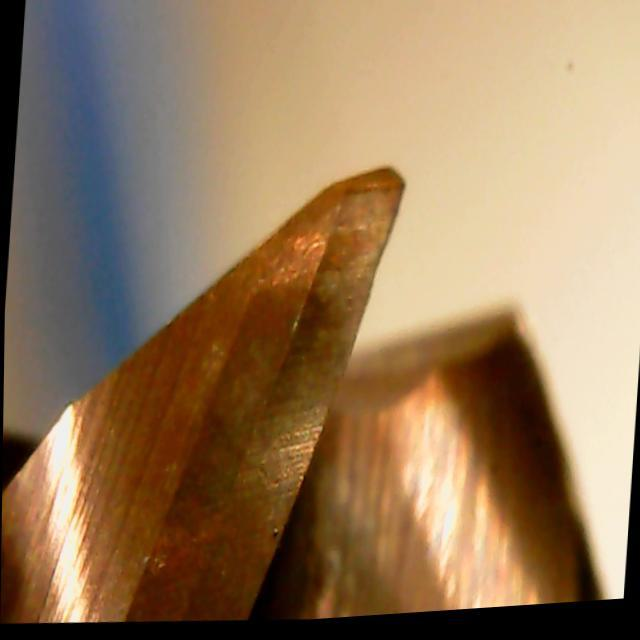Tool-wear-class-1: (237, 155, 433, 342)
